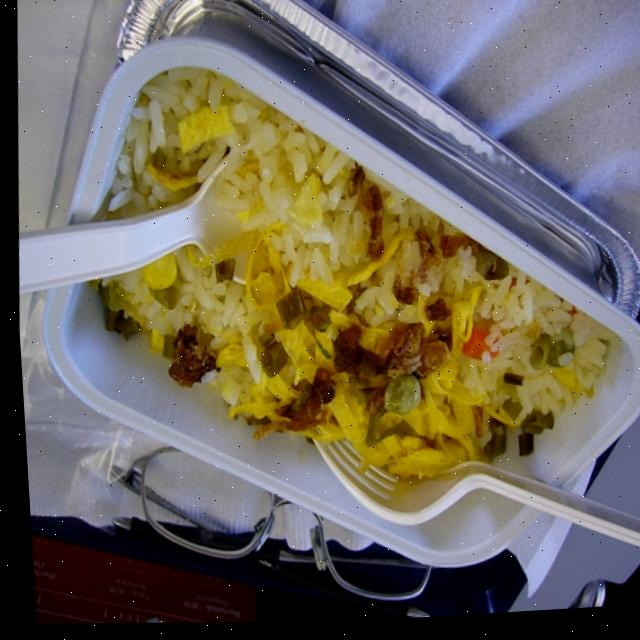米饭主食: (33, 0, 640, 613)
